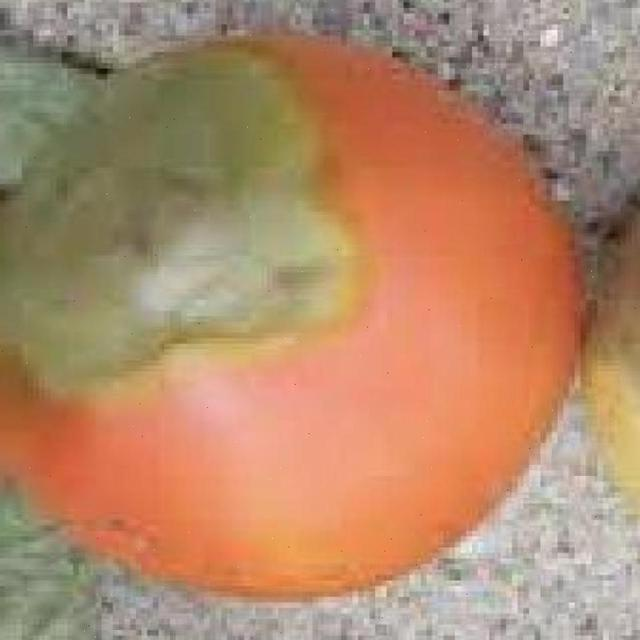Blossom End Rot Fruit: (5, 30, 248, 271)
